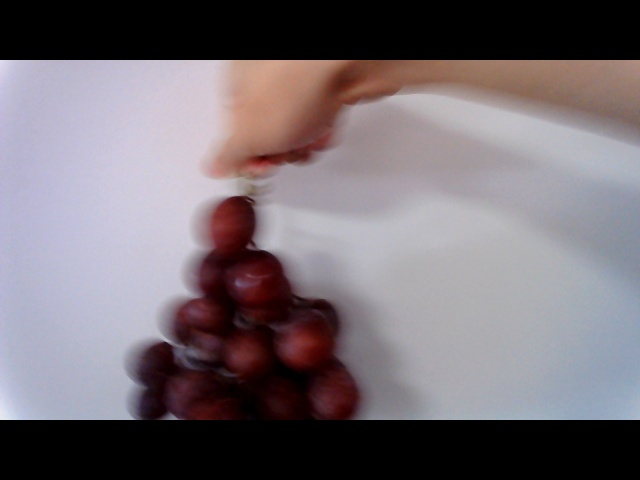grape: (106, 192, 368, 420)
